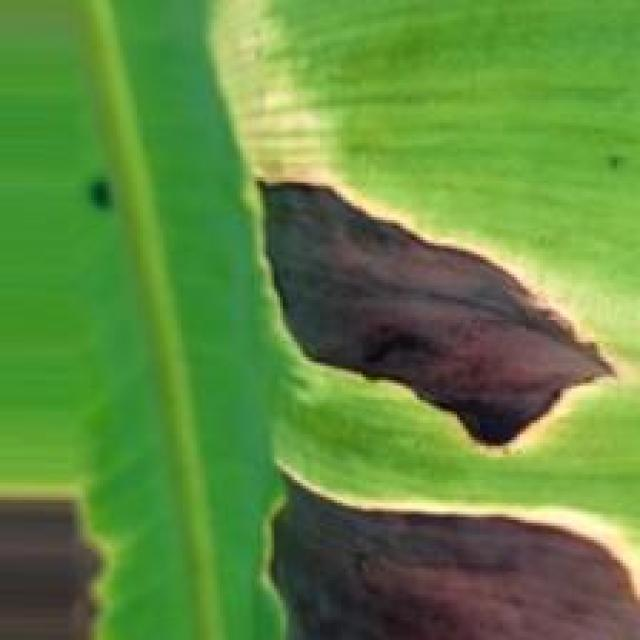Bacterial_spot: (227, 152, 626, 460), (237, 456, 640, 640), (0, 465, 125, 640)
